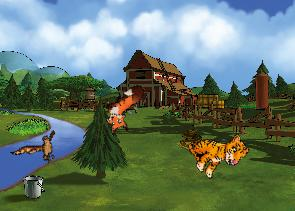eagle: (10, 119, 68, 177)
fox: (95, 81, 157, 139)
tiger: (182, 117, 252, 185)
